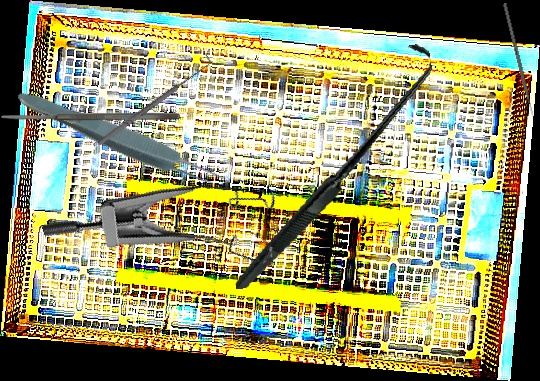Hook Surgical: (202, 42, 462, 290), (93, 54, 215, 148)
Pusher: (502, 2, 537, 124)
Spatula Surgical: (0, 112, 180, 121)
Speculum: (40, 144, 295, 332)
Tissue Forceps: (12, 83, 229, 197)
